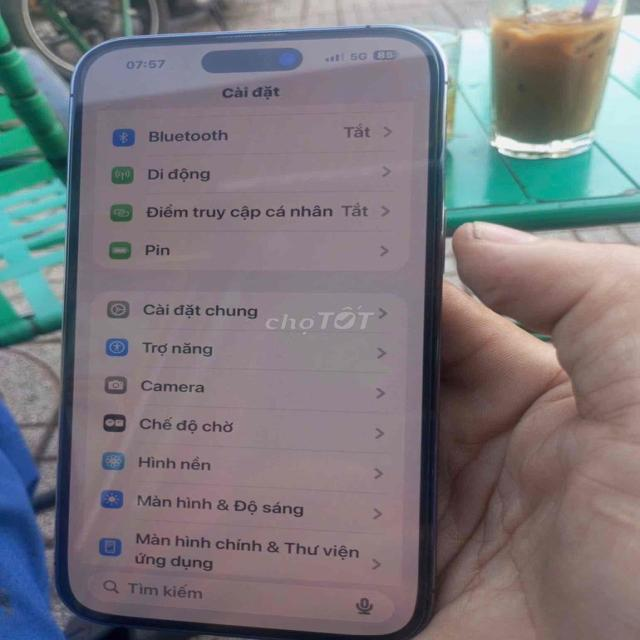gen_14: (48, 21, 450, 639)
